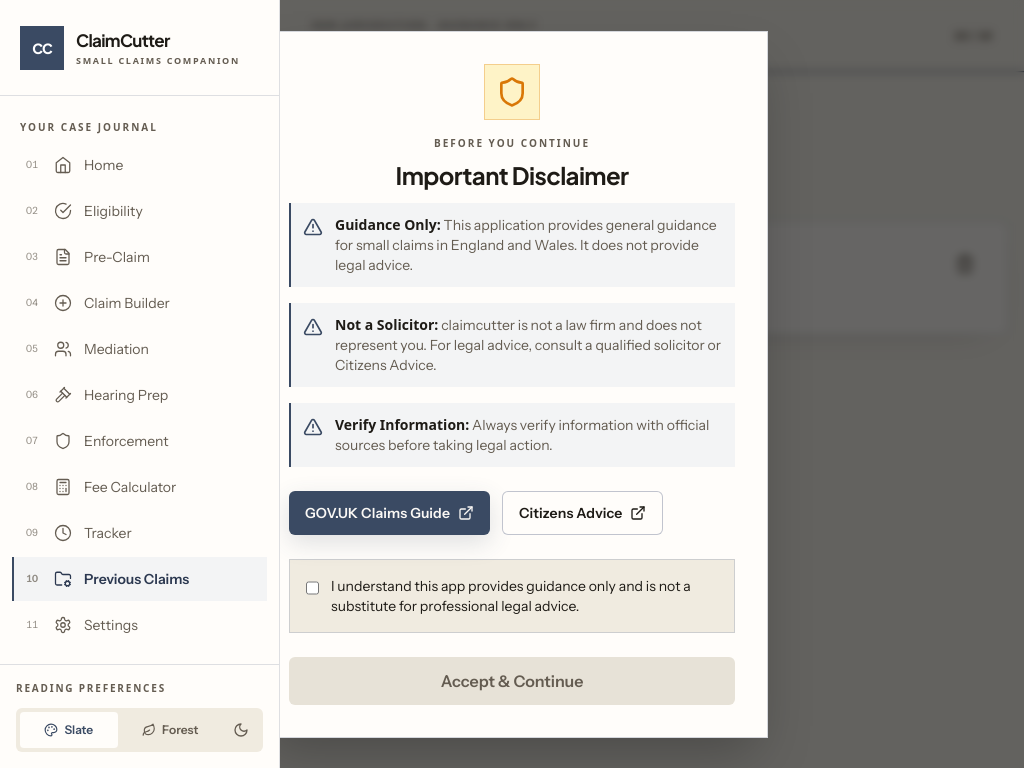
Test case: ClaimCutter workflows › deletes a claim from previous claims with confirmation
Click the checkbox labelled "I understand this app provides guidance only" at (312, 588), box [306,578,319,598]
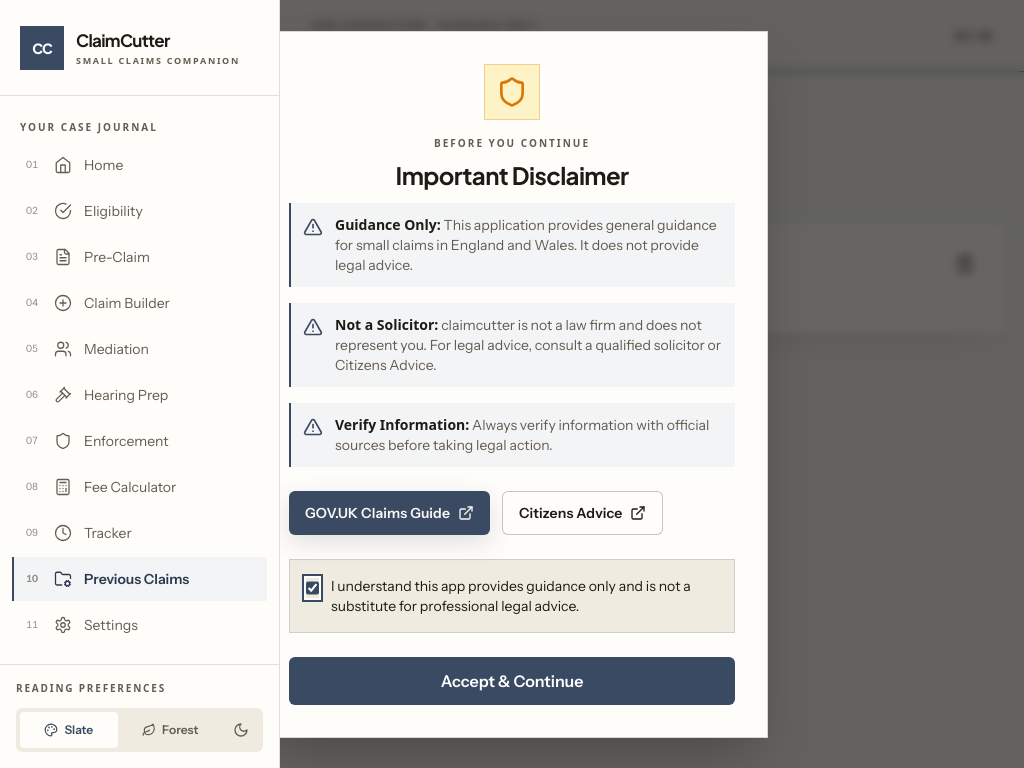
Click the button "Accept & Continue" at (512, 680), box [289,656,735,704]
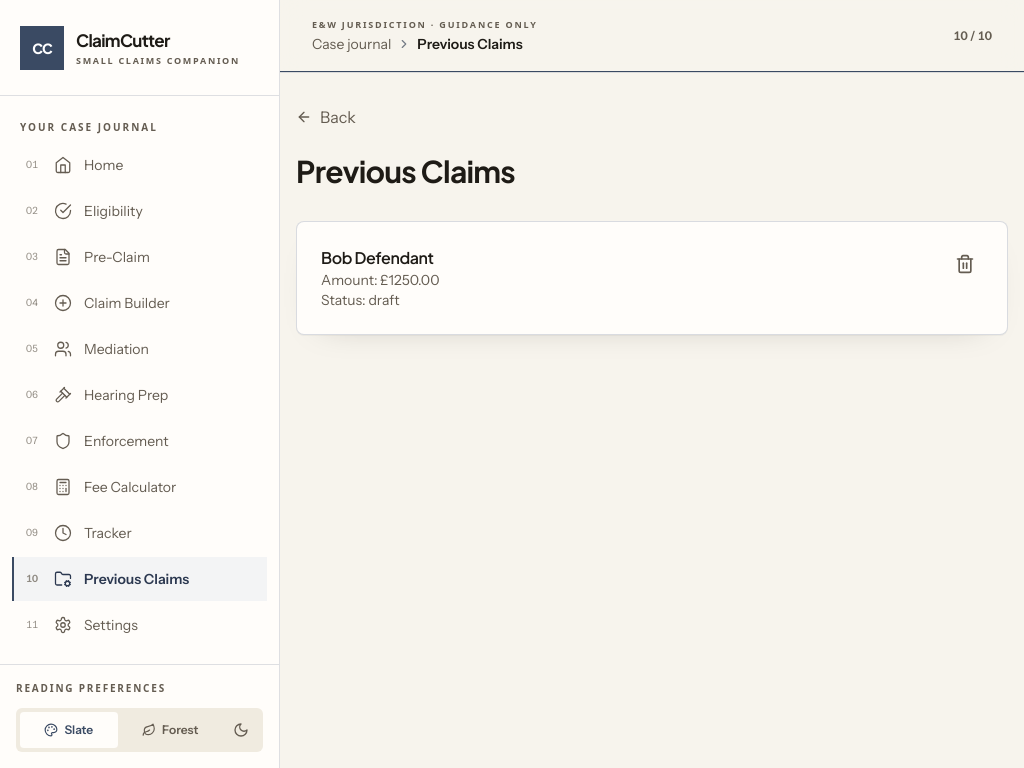
Expected: the heading "Previous Claims" is shown, [296,152,515,190]
Expected: the heading "Bob Defendant" is shown, [321,246,440,270]
Click the button named "Delete claim against Bob Defendant" at (965, 264), box [947,246,983,282]
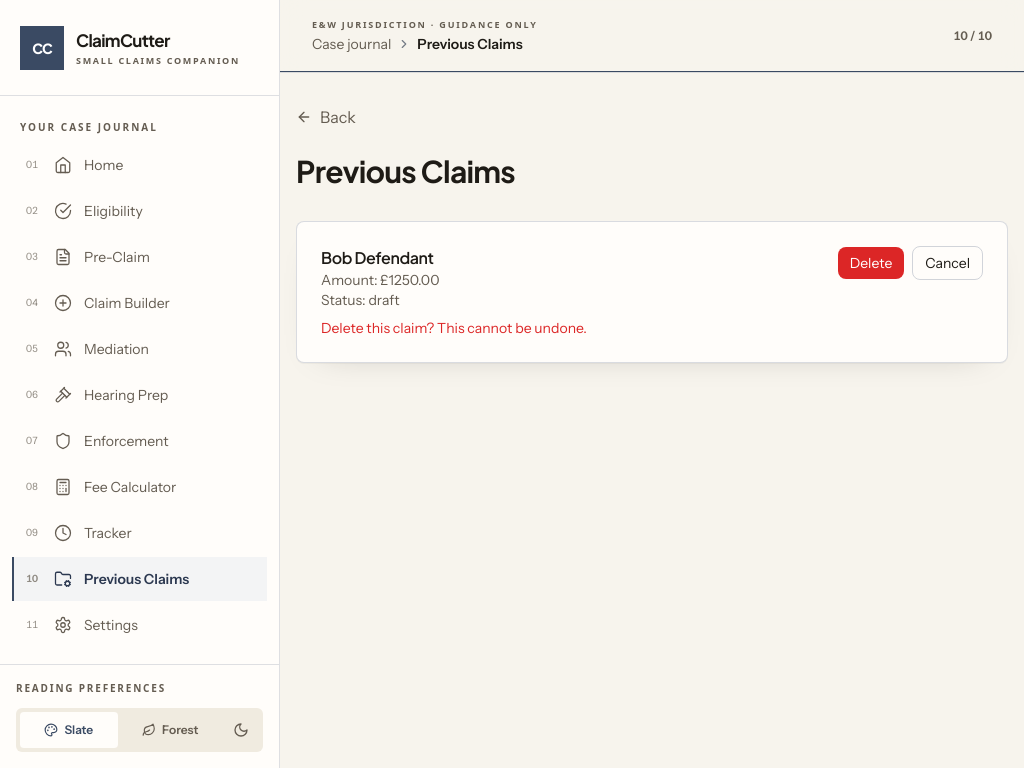
Expected: the text "Delete this claim? This cannot be undone." is shown, [321,319,587,337]
Click the button "Delete" at (871, 263), box [838,247,904,279]
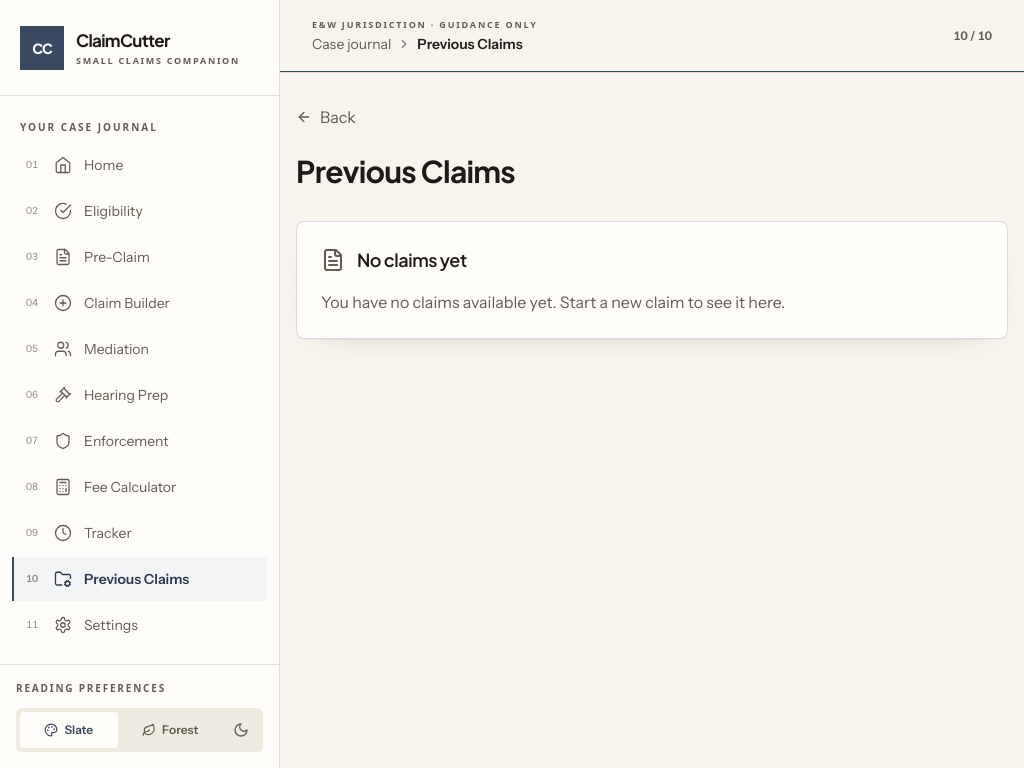
Expected: the heading "No claims yet" is shown, [357,246,467,274]
